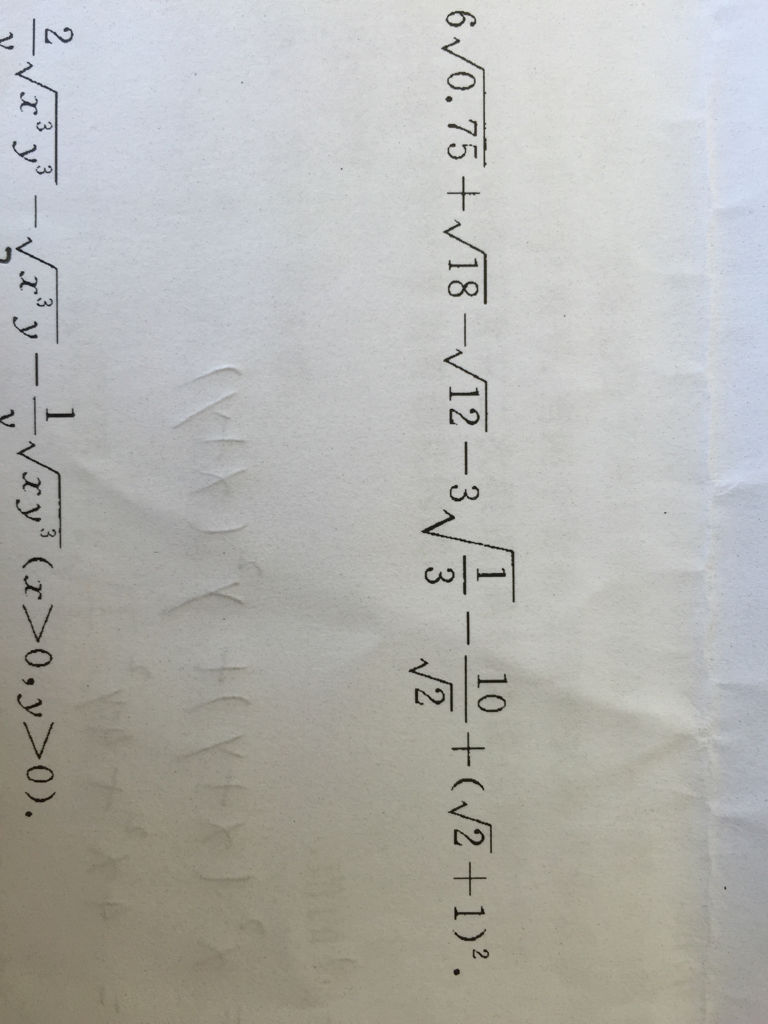sqrt: (93, 580, 225, 635), (346, 579, 469, 628), (248, 582, 323, 636), (233, 517, 312, 564), (118, 504, 176, 568), (239, 755, 305, 809), (568, 777, 651, 815), (361, 773, 469, 801), (377, 520, 428, 566), (173, 901, 217, 942), (191, 977, 236, 1016), (123, 823, 185, 851), (99, 763, 153, 789)
